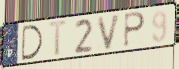2: (73, 18, 94, 56)
9: (150, 9, 170, 44)
D: (21, 24, 45, 62)
P: (122, 11, 147, 49)
T: (48, 19, 70, 59)
V: (96, 12, 123, 52)
